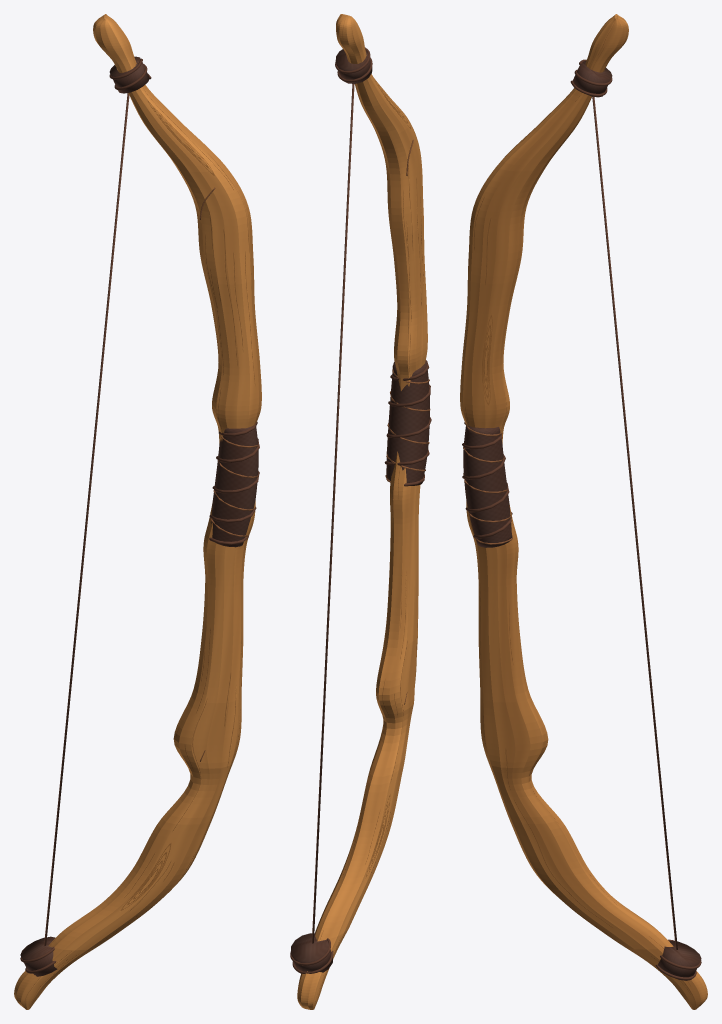
File: old_bow.glb
3 renders of one model, left to right at view 1: azimuth 90°, elevation 25°; view 2: azimuth 150°, elevation 25°; view 3: azimuth 270°, elevation 25°, orthographic. The views are drawn at different scales.
Visible parts, largest first — view 1: old_bow_game_mesh; view 2: old_bow_game_mesh; view 3: old_bow_game_mesh.
Boxes of the visible parts, box(x1,y1,x2,y2) form: old_bow_game_mesh: box(14, 14, 261, 1009); old_bow_game_mesh: box(290, 14, 431, 1009); old_bow_game_mesh: box(460, 14, 707, 1009).
Size of the model in its own units: 0.065 by 1.45 by 0.3284.
1 material, 1 textured.
